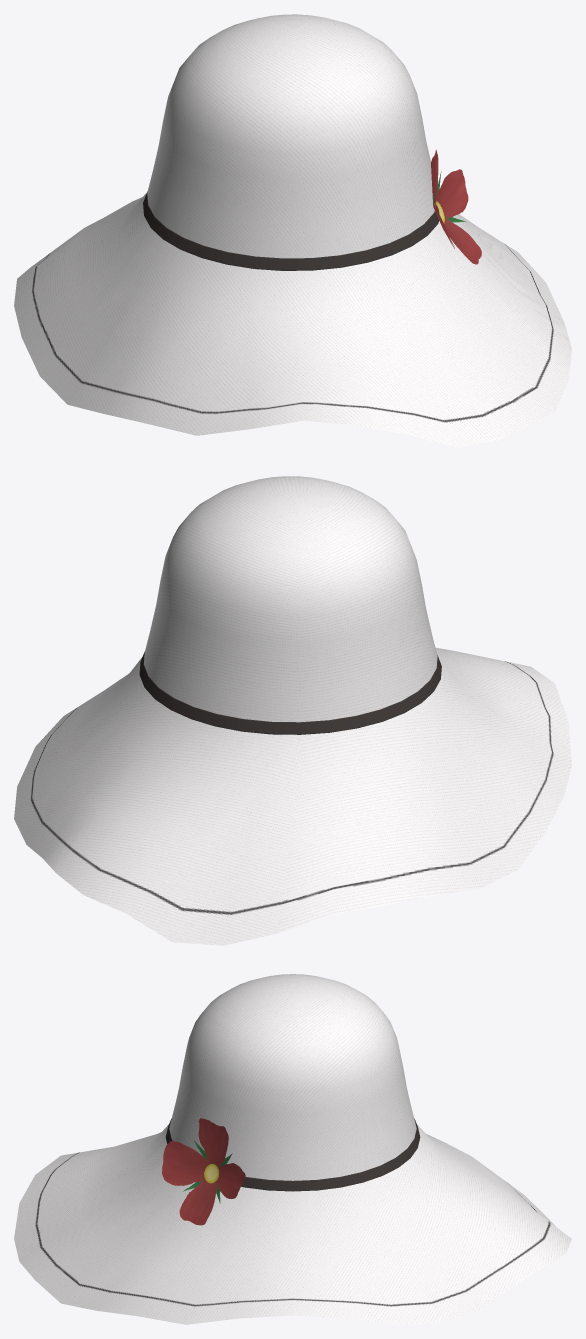
The picture shows the model from 3 angles, top to bottom: view 1: azimuth 30°, elevation 25°; view 2: azimuth 150°, elevation 25°; view 3: azimuth 270°, elevation 25°; orthographic projection. The views are drawn at different scales.
Visible parts, largest first — view 1: sunday_hat__0; view 2: sunday_hat__0; view 3: sunday_hat__0.
Boxes of the visible parts, x1,y1,x2,y2 form: sunday_hat__0: (14,14,571,447); sunday_hat__0: (14,476,571,945); sunday_hat__0: (14,974,571,1324).
Bounding box in the file's own units: 0.6853 × 0.4624 × 0.8669.
Materials: 1 (1 with a texture image).
